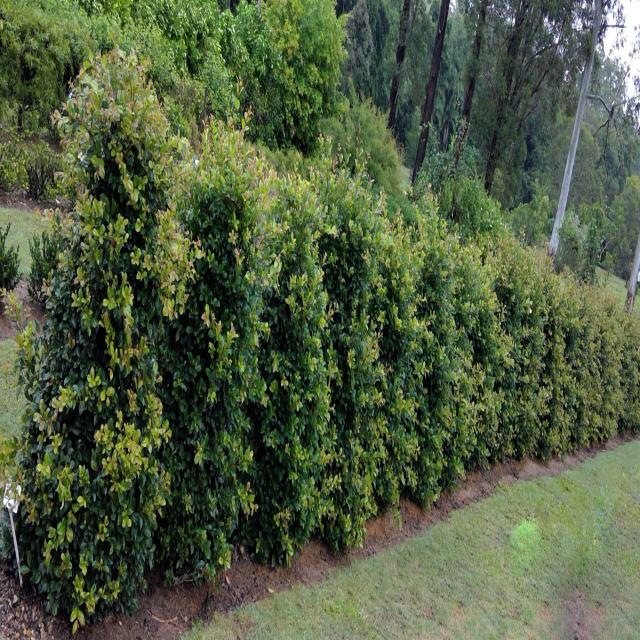Syzygium Resilience: (65, 76, 178, 606), (175, 124, 264, 570), (313, 151, 379, 556), (256, 178, 322, 574), (383, 190, 444, 523), (435, 207, 493, 489), (478, 229, 540, 469), (516, 246, 572, 458), (556, 269, 607, 453), (589, 276, 624, 451), (614, 314, 640, 434)
